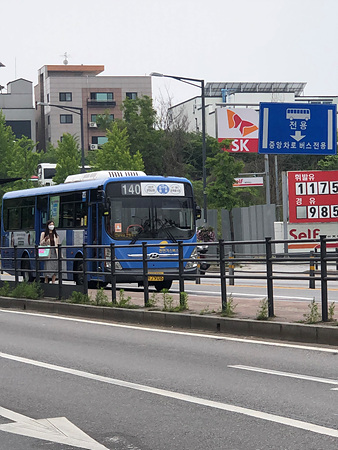bnum: (120, 181, 142, 195)
